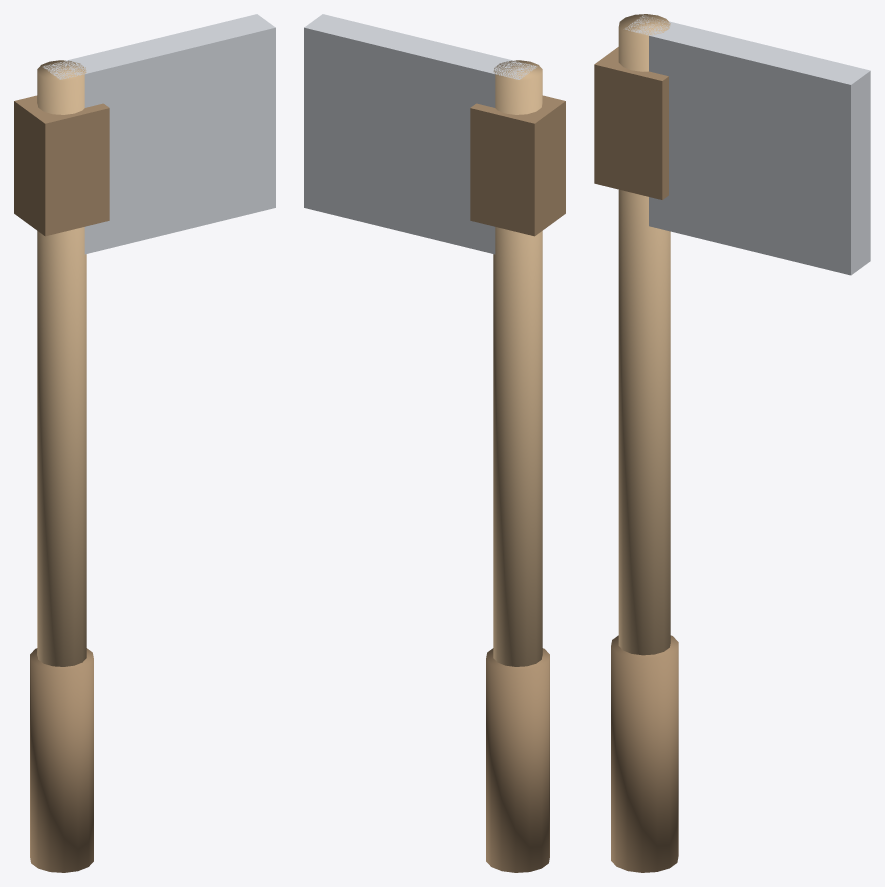
Rendered from VTool_Axe.fbx.
The picture shows the model from 3 angles, left to right: view 1: azimuth 30°, elevation 25°; view 2: azimuth 150°, elevation 25°; view 3: azimuth 330°, elevation 25°; orthographic projection. The views are drawn at different scales.
Visible parts, largest first — view 1: VTool_Axe; view 2: VTool_Axe; view 3: VTool_Axe.
Boxes of the visible parts, x1,y1,x2,y2 form: VTool_Axe: (14, 14, 275, 872); VTool_Axe: (304, 14, 565, 872); VTool_Axe: (594, 14, 870, 872).
Size of the model in its own units: 0.22 by 0.7 by 0.052.
